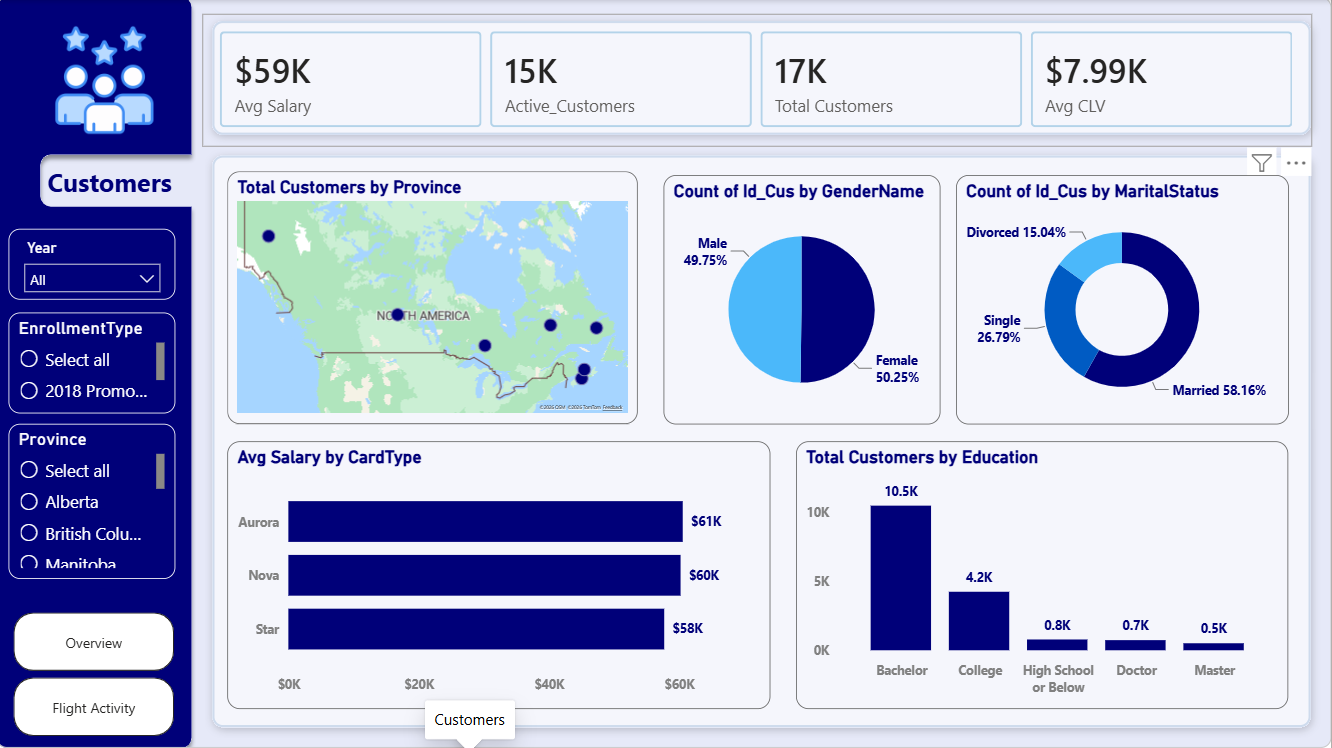

Layout of this report page (visuals, bound fields, positions):
{"tool":"powerbi","page":{"name":"Customers","canvas":[1280,720],"ordinal":2},"visuals":[{"type":"cardVisual","fields":{"Data":["Mesures.Avg Salary","Mesures.Active_Customers","Mesures.Total Customers","Mesures.Avg CLV"]},"box":[197.7,13,1064.8,127],"z":0},{"type":"columnChart","fields":{"Y":["Mesures.Total Customers"],"Category":["Dim_Customer.Education"]},"box":[767.5,422.7,471.8,256.8],"z":1000},{"type":"azureMap","fields":{"Category":["Dim_Geography.Province"],"Y":["Mesures.Total Customers"]},"box":[222.2,164.5,393.9,242.4],"z":2000},{"type":"clusteredBarChart","fields":{"Category":["Dim_LoyaltyCard.CardType"],"Y":["Mesures.Avg Salary"]},"box":[222.2,422.7,520.8,256.8],"z":3000},{"type":"pieChart","fields":{"Category":["Dim_Gender.GenderName"],"Y":["CountNonNull(Dim_Customer.Id_Cus)"]},"box":[640.6,167.4,265.5,239.5],"z":4000},{"type":"slicer","fields":{"Values":["Dim_Date.Year"]},"box":[11.5,219.3,160.1,67.8],"z":5000},{"type":"listSlicer","fields":{"Values":["Dim_Enrollment.EnrollmentType"]},"box":[11.5,300.1,160.1,96.7],"z":6000},{"type":"donutChart","title":"Count of Id_Cus by MaritalStatus","fields":{"Category":["Dim_Customer.MaritalStatus"],"Y":["CountNonNull(Dim_Customer.Id_Cus)"]},"box":[920.5,167.4,318.9,239.5],"z":7000},{"type":"image","box":[36.1,24.5,135.6,105.3],"z":8000},{"type":"listSlicer","fields":{"Values":["Dim_Geography.Province"]},"box":[11.5,406.9,160.1,148.6],"z":9000},{"type":"pageNavigator","box":[17.3,587.2,154.4,119.7],"z":10000},{"type":"textbox","box":[44.7,152.9,177.5,66.4],"z":11000}]}

Visuals, with their boxes in screenshot pixels (x1, y1, x2, y2), scaled from the page's 1280x720 canvas onto the 1332x748 screenshot:
cardVisual - Mesures.Avg Salary x Mesures.Active_Customers: 206 14 1314 145
columnChart - Mesures.Total Customers x Dim_Customer.Education: 799 439 1290 706
azureMap - Dim_Geography.Province x Mesures.Total Customers: 231 171 641 423
clusteredBarChart - Dim_LoyaltyCard.CardType x Mesures.Avg Salary: 231 439 773 706
pieChart - Dim_Gender.GenderName x CountNonNull(Dim_Customer.Id_Cus): 667 174 943 423
slicer - Dim_Date.Year: 12 228 179 298
listSlicer - Dim_Enrollment.EnrollmentType: 12 312 179 412
"Count of Id_Cus by MaritalStatus" donutChart: 958 174 1290 423
image: 38 25 179 135
listSlicer - Dim_Geography.Province: 12 423 179 577
pageNavigator: 18 610 179 734
textbox: 47 159 231 228
